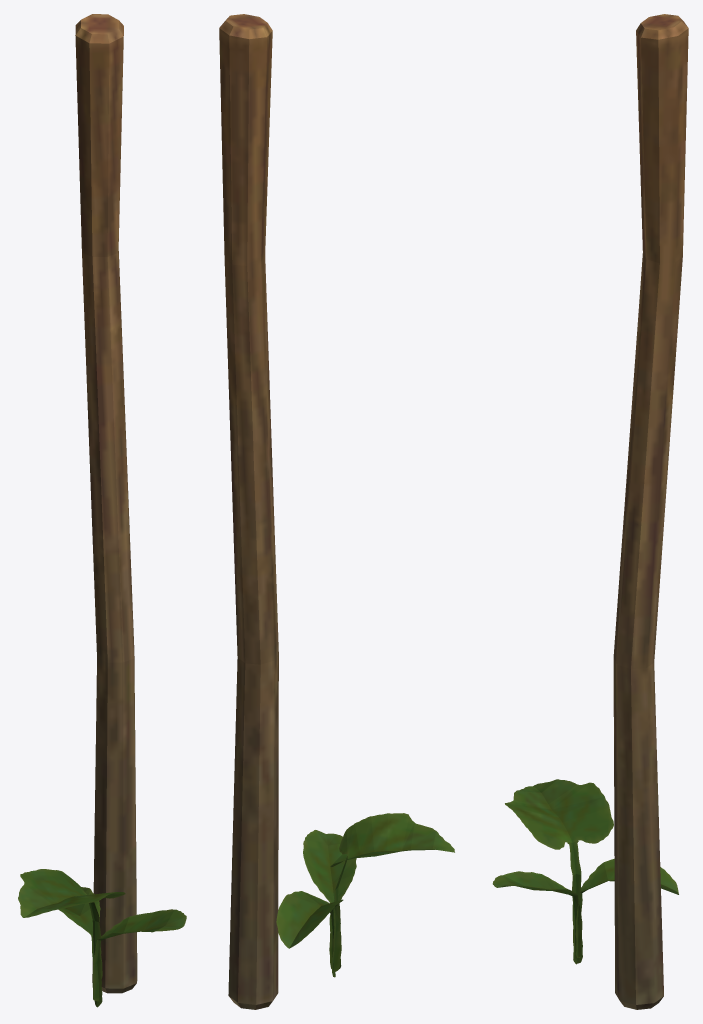
File: Cucumber_01.obj
3 views of the same model, side by side, from view 1: azimuth 30°, elevation 25°; view 2: azimuth 150°, elevation 25°; view 3: azimuth 270°, elevation 25° (orthographic). The views are drawn at different scales.
Bounding box in the file's own units: 0.2078 × 1.14 × 0.2104.
1 material, 1 textured.
